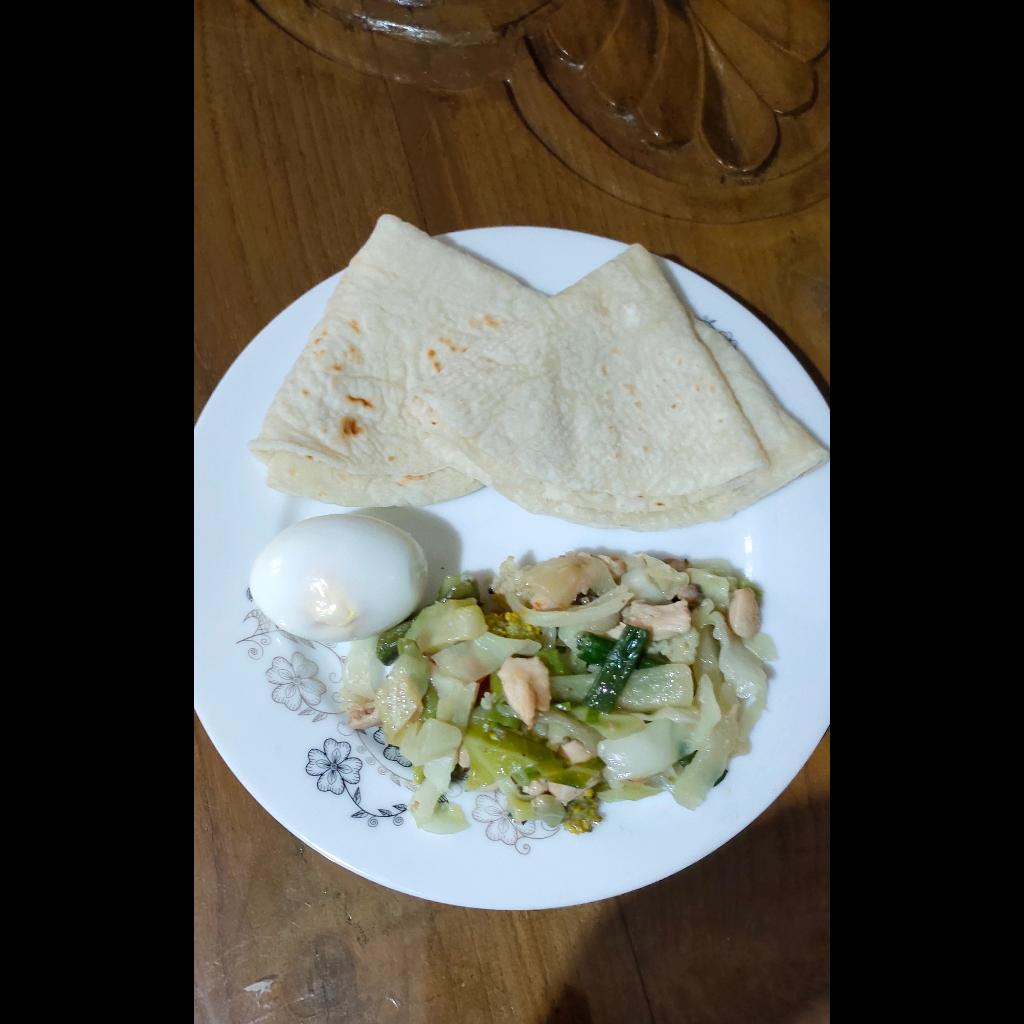egg-boiled: (248, 511, 428, 641)
ruti: (246, 201, 827, 532)
vegetable: (346, 548, 775, 835)
